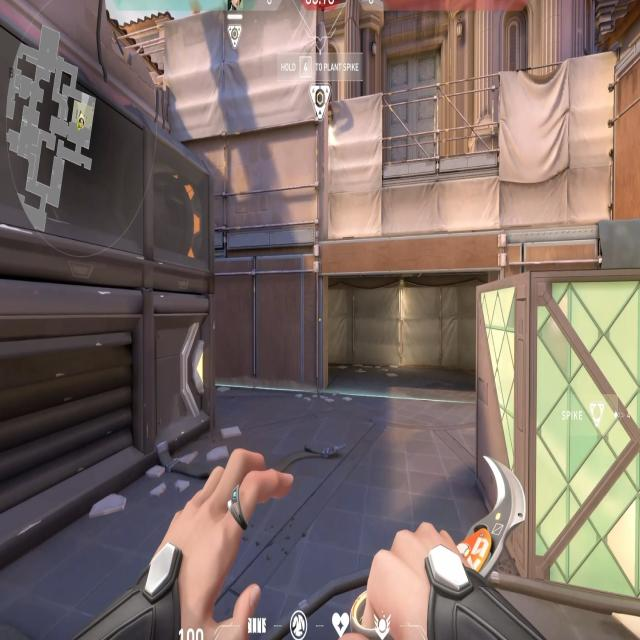A_Heaven_Wall: (162, 3, 329, 238)
A_Hell: (312, 223, 509, 410)
